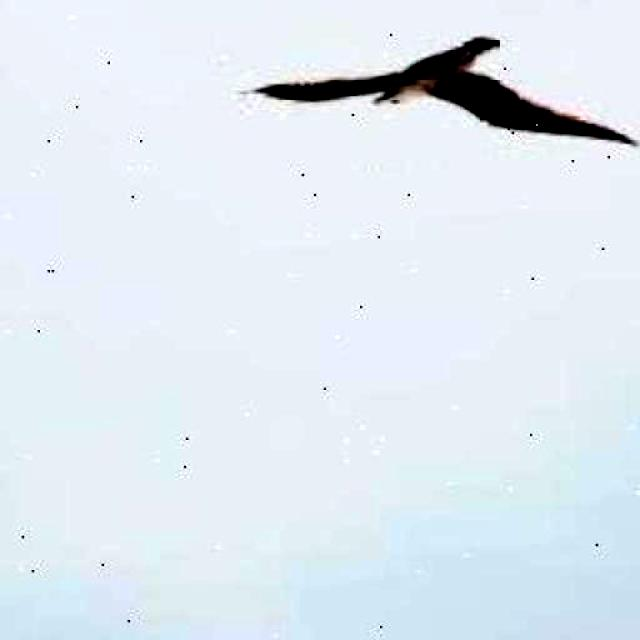airplane: (229, 29, 640, 172)
